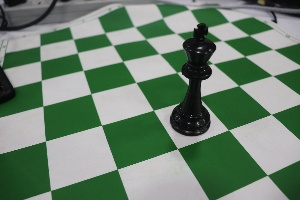black_king: (164, 11, 217, 140)
